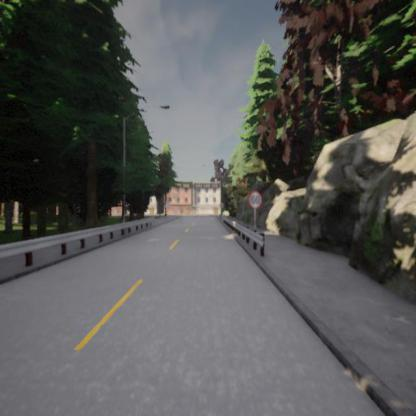traffic_sign_60: (248, 191, 262, 209)
